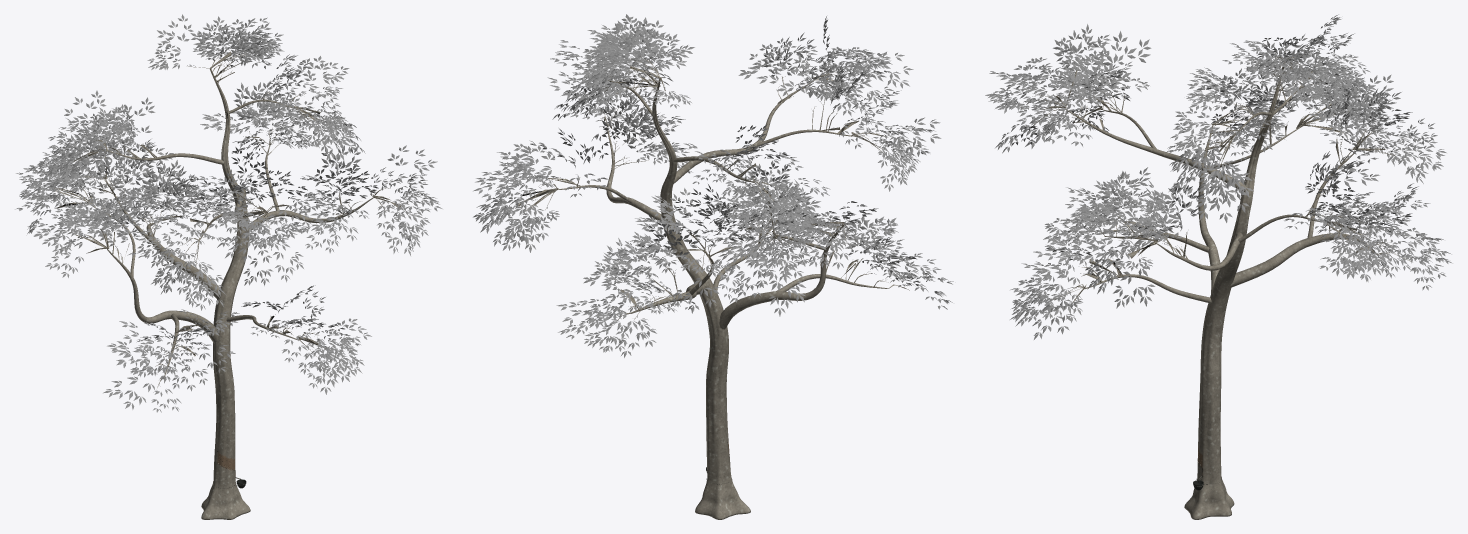
The model's file is RT_Mature_C_LOD1.glb.
3 views of the same model, side by side, from view 1: azimuth 30°, elevation 25°; view 2: azimuth 150°, elevation 25°; view 3: azimuth 270°, elevation 25° (orthographic). The views are drawn at different scales.
Parts seen in each view (by area): view 1: RT_Mature_C_LOD1_Foliage, RT_Mature_C_LOD1_Body; view 2: RT_Mature_C_LOD1_Foliage, RT_Mature_C_LOD1_Body; view 3: RT_Mature_C_LOD1_Foliage, RT_Mature_C_LOD1_Body.
Boxes of the visible parts, x1,y1,x2,y2 form: RT_Mature_C_LOD1_Foliage: (15, 14, 442, 412); RT_Mature_C_LOD1_Body: (54, 51, 400, 519); RT_Mature_C_LOD1_Foliage: (473, 14, 953, 357); RT_Mature_C_LOD1_Body: (518, 56, 909, 519); RT_Mature_C_LOD1_Foliage: (985, 14, 1452, 339); RT_Mature_C_LOD1_Body: (1031, 52, 1410, 519).
Bounding box in the file's own units: 11.43 × 13.77 × 11.73.
2 materials, 1 textured.
